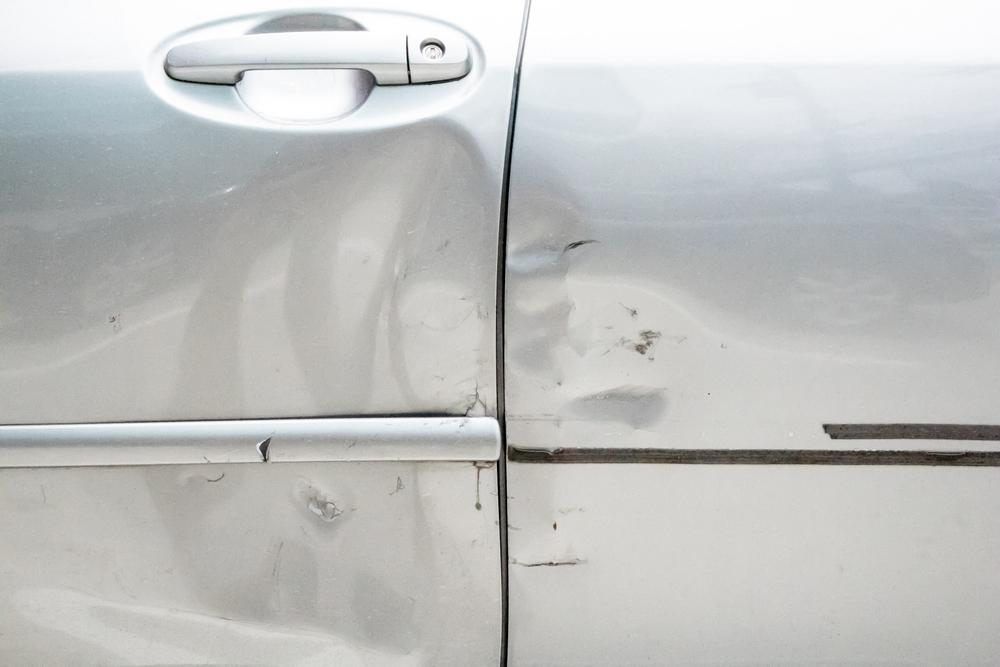dent: (26, 467, 447, 667), (497, 164, 688, 444), (328, 118, 502, 415)
